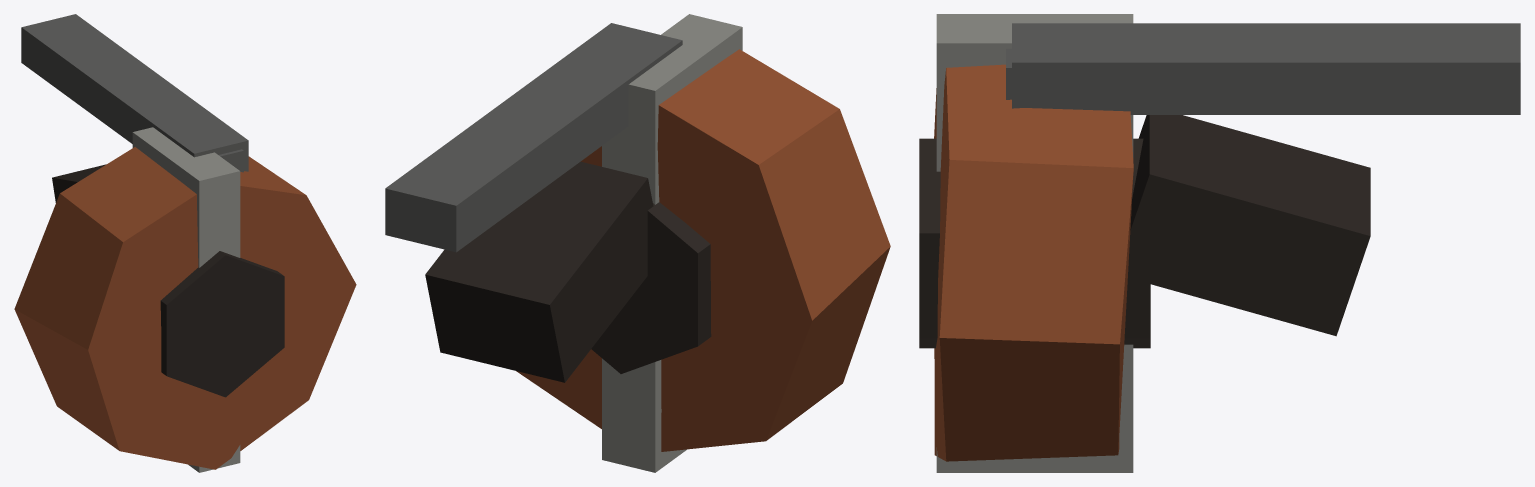
Rendered from wext_drum.glb.
3 views of the same model, side by side, from view 1: azimuth 30°, elevation 25°; view 2: azimuth 150°, elevation 25°; view 3: azimuth 270°, elevation 25° (orthographic). The views are drawn at different scales.
Parts seen in each view (by area): view 1: wext_drum; view 2: wext_drum; view 3: wext_drum.
Boxes of the visible parts, x1,y1,x2,y2 form: wext_drum: (14,14,356,472); wext_drum: (385,14,890,472); wext_drum: (919,14,1520,472).
Bounding box in the file's own units: 0.2037 × 0.2077 × 0.26.
